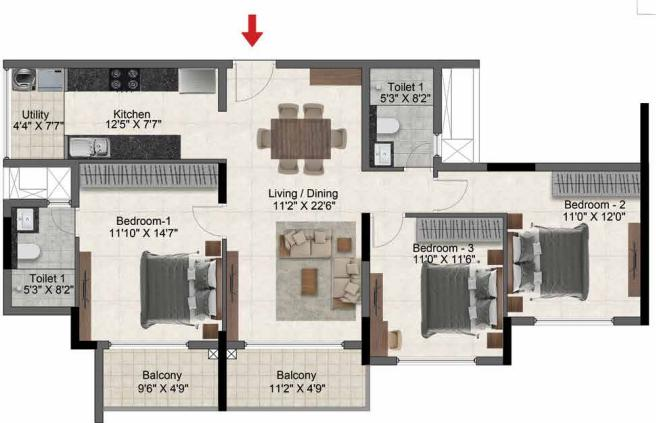Balcony: (225, 348, 369, 409), (98, 346, 225, 408)
Bed: (142, 246, 222, 326), (510, 224, 588, 300), (422, 259, 502, 333)
Bedroom: (78, 165, 223, 343), (508, 170, 646, 324), (367, 217, 506, 361)
Dining Room: (228, 69, 366, 215)
Dining table: (254, 102, 348, 182)
Kitchen: (72, 63, 224, 161)
Living Room: (226, 216, 362, 345)
Sofa: (282, 227, 334, 263), (330, 257, 360, 302)
Wardrobe: (79, 166, 221, 189), (552, 172, 642, 198), (416, 218, 504, 242)
commode: (376, 119, 400, 135), (19, 244, 39, 259)
door: (233, 64, 276, 100), (371, 215, 407, 249), (192, 204, 226, 238), (435, 179, 467, 213), (50, 204, 76, 238), (404, 139, 432, 168)
fridge: (182, 68, 216, 92)
kitchen-slab: (68, 68, 180, 92), (69, 135, 180, 159)
sink: (70, 138, 110, 158), (16, 209, 36, 231), (374, 143, 393, 166)
stove: (108, 68, 140, 92)
toilet: (367, 67, 443, 169), (7, 202, 77, 312)
tv: (371, 273, 386, 355), (79, 251, 91, 342), (227, 251, 238, 338), (629, 223, 639, 298)
utility: (9, 67, 68, 160)
washing-machine: (10, 68, 36, 91)
